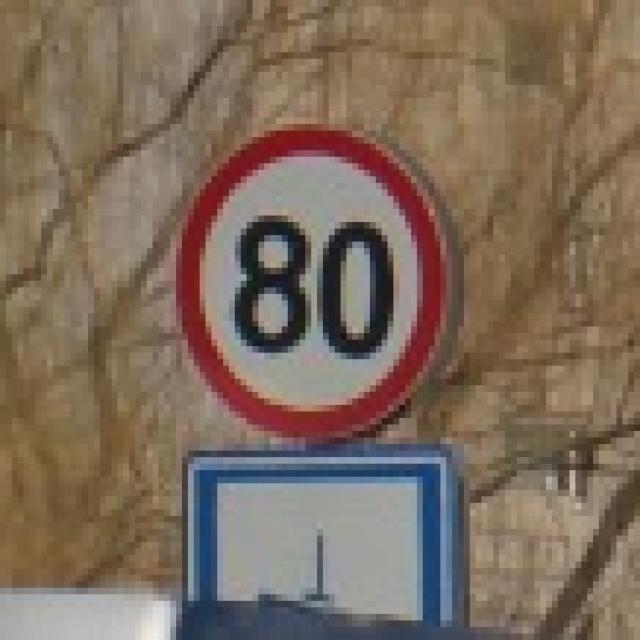Speed Limit -80-: (232, 211, 398, 364)
